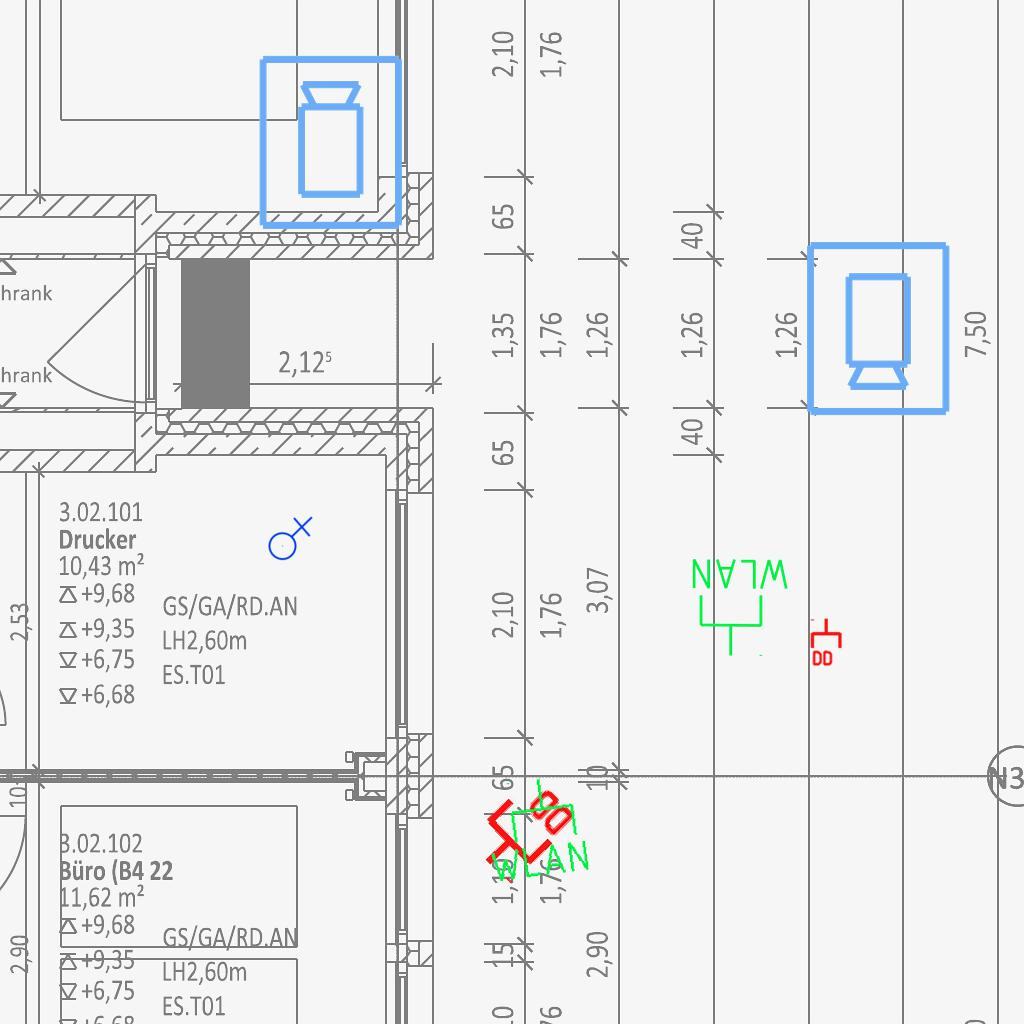Datenanschluss_zweifach: (460, 766, 583, 889), (810, 617, 844, 668)
Elektroanschluss_allgemein_230V_Geraeteanschlussdose_230V: (264, 514, 313, 561)
KFO_Kamera_mit_Festobjektiv: (800, 237, 954, 419), (255, 52, 409, 234)
WLAN: (475, 769, 595, 888), (688, 555, 793, 659)
